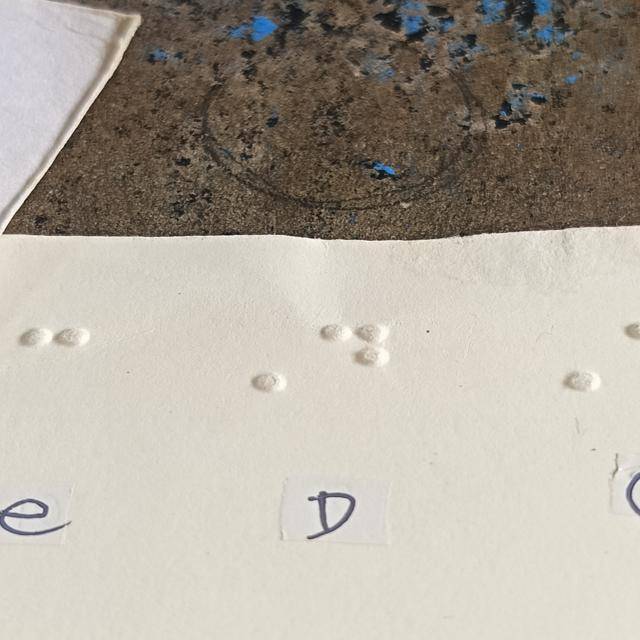capital_sign: (223, 326, 288, 395)
letter_D: (322, 324, 387, 393)
